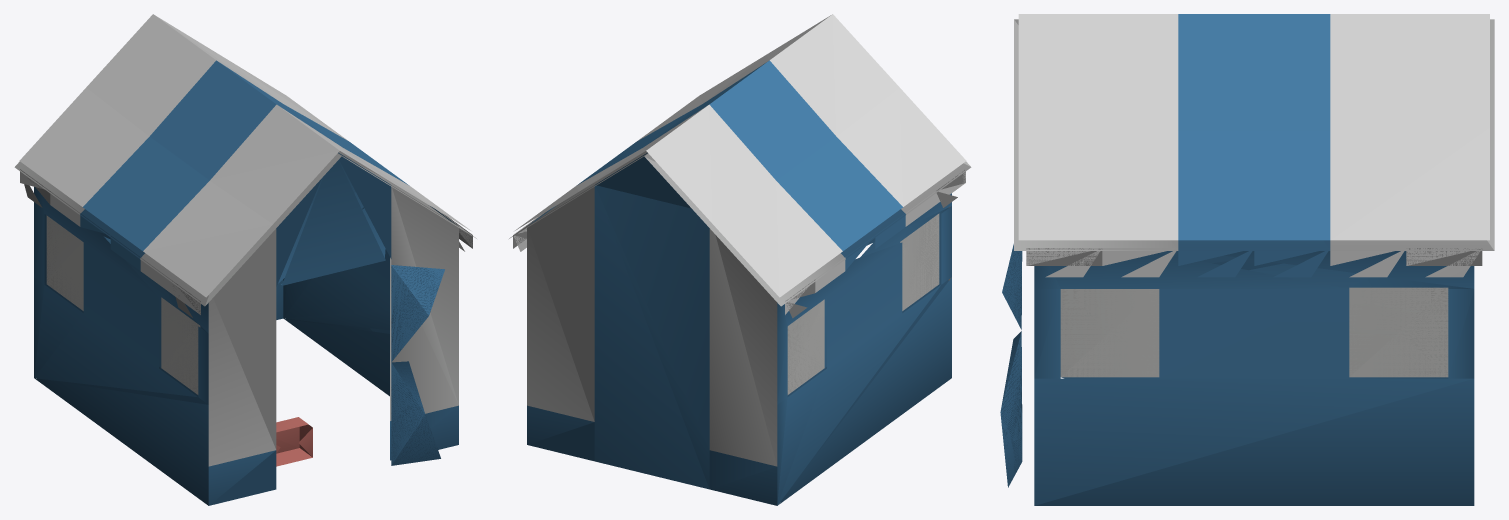
File: medtent.lod.glb
3 views of the same model, side by side, from view 1: azimuth 30°, elevation 25°; view 2: azimuth 150°, elevation 25°; view 3: azimuth 270°, elevation 25° (orthographic). The views are drawn at different scales.
Parts seen in each view (by area): view 1: medtent; view 2: medtent; view 3: medtent.
Part boxes in pixels (box(x1,y1,x2,y2)): medtent: box(14, 14, 476, 505); medtent: box(509, 14, 971, 505); medtent: box(1000, 14, 1494, 505).
Size of the model in its own units: 3.14 by 3.61 by 3.9.
